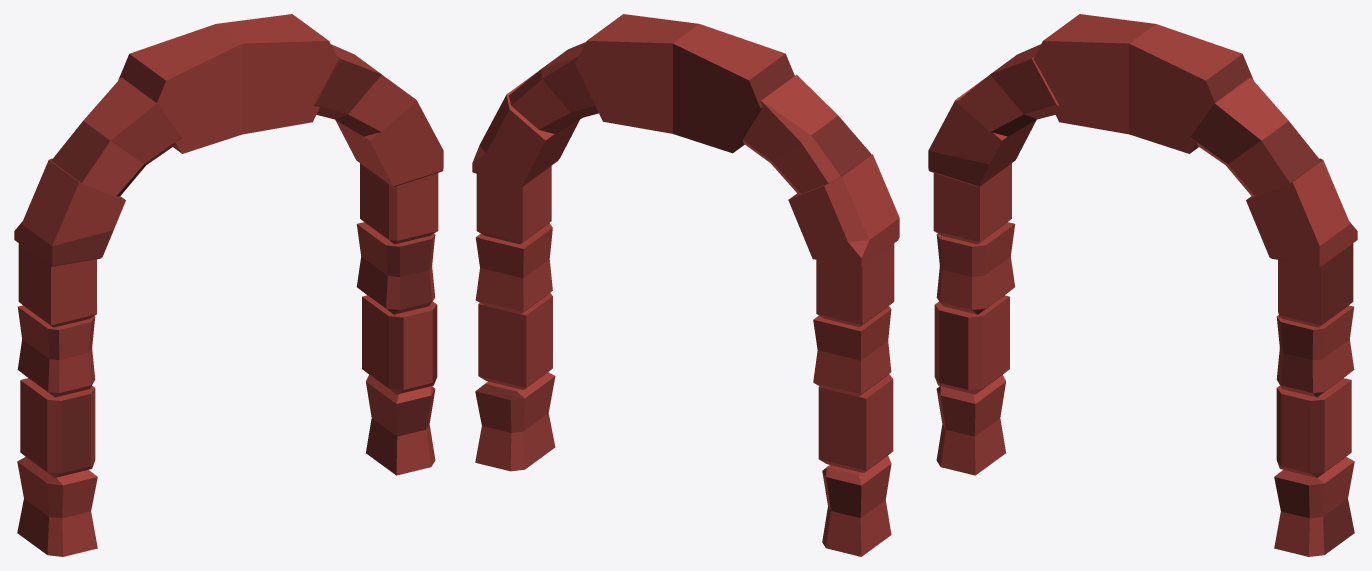
File: Archway_5_Red.fbx
3 views of the same model, side by side, from view 1: azimuth 30°, elevation 25°; view 2: azimuth 150°, elevation 25°; view 3: azimuth 330°, elevation 25° (orthographic).
Visible parts, largest first — view 1: Archway_5_Red_Part_1, Archway_5_Red_Part_2; view 2: Archway_5_Red_Part_1, Archway_5_Red_Part_2; view 3: Archway_5_Red_Part_1, Archway_5_Red_Part_2.
Boxes of the visible parts, x1,y1,x2,y2 form: Archway_5_Red_Part_1: (14, 14, 443, 556); Archway_5_Red_Part_2: (22, 54, 442, 473); Archway_5_Red_Part_1: (472, 14, 899, 556); Archway_5_Red_Part_2: (475, 43, 890, 517); Archway_5_Red_Part_1: (928, 14, 1357, 556); Archway_5_Red_Part_2: (928, 54, 1354, 554).
Size of the model in its own units: 613 by 696 by 106.
